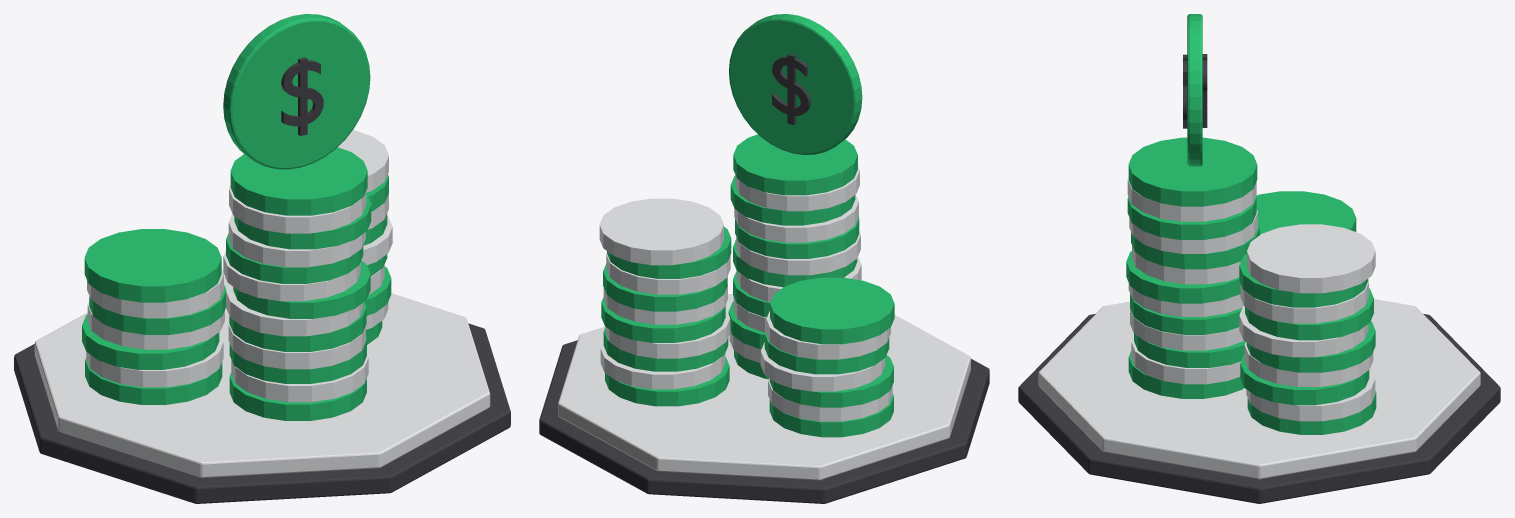
Rendered from coin-stack.glb.
3 views of the same model, side by side, from view 1: azimuth 30°, elevation 25°; view 2: azimuth 150°, elevation 25°; view 3: azimuth 270°, elevation 25° (orthographic). The views are drawn at different scales.
Visible parts, largest first — view 1: coin_pile, spin_coin; view 2: coin_pile, spin_coin; view 3: coin_pile, spin_coin.
Part boxes in pixels (<box>): coin_pile: <box>14,130,510,503</box>; spin_coin: <box>223,14,370,169</box>; coin_pile: <box>539,134,989,503</box>; spin_coin: <box>729,14,862,154</box>; coin_pile: <box>1018,137,1500,503</box>; spin_coin: <box>1183,14,1207,166</box>.
Size of the model in its own units: 11.98 by 10.47 by 11.98.
